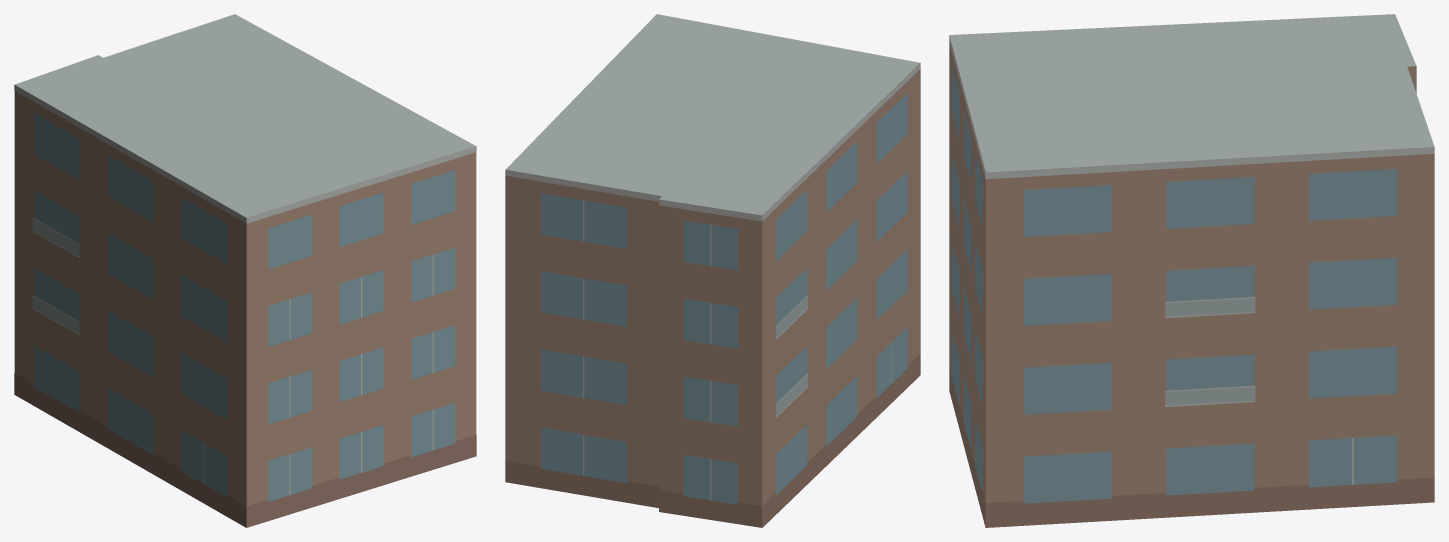
File: survey-upis-32561533.glb
The picture shows the model from 3 angles, left to right: view 1: azimuth 30°, elevation 25°; view 2: azimuth 150°, elevation 25°; view 3: azimuth 270°, elevation 25°; orthographic projection. The views are drawn at different scales.
Visible parts, largest first — view 1: survey-upis-32561533.tmp; view 2: survey-upis-32561533.tmp; view 3: survey-upis-32561533.tmp.
Boxes of the visible parts, x1,y1,x2,y2 form: survey-upis-32561533.tmp: [14, 14, 476, 527]; survey-upis-32561533.tmp: [505, 14, 920, 527]; survey-upis-32561533.tmp: [949, 14, 1434, 527].
Bounding box in the file's own units: 12.2 × 12.75 × 15.79.
